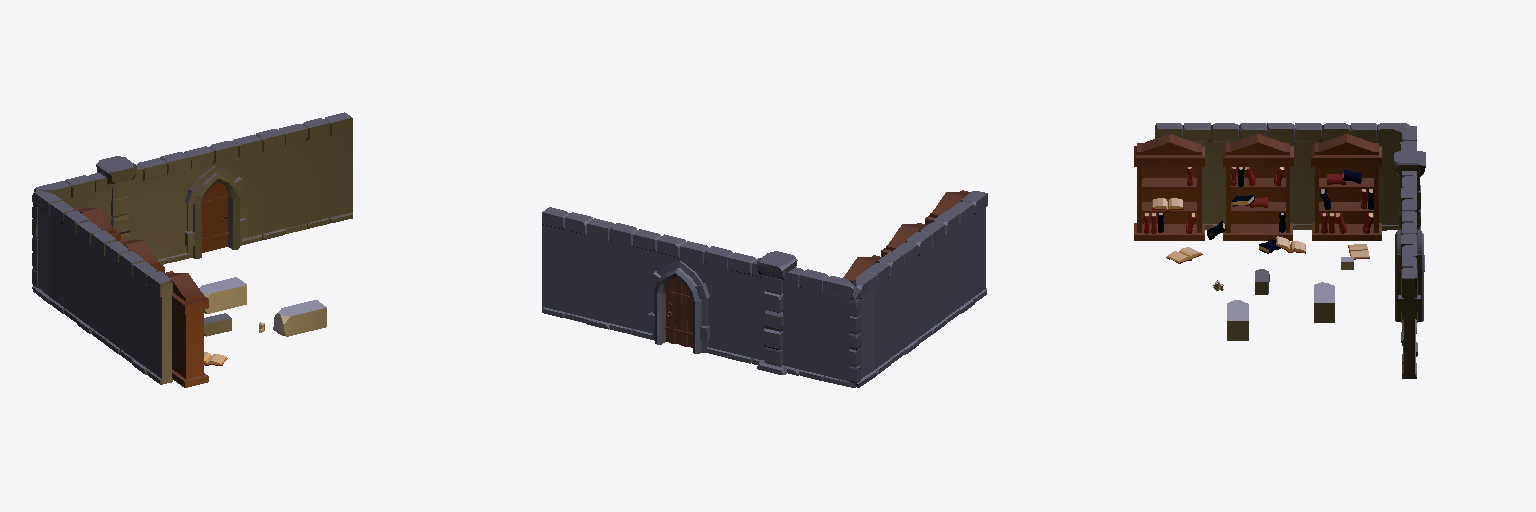
3 renders of one model, left to right at view 1: azimuth 30°, elevation 25°; view 2: azimuth 150°, elevation 25°; view 3: azimuth 270°, elevation 25°, orthographic.
Parts seen in each view (by area): view 1: Wall5.001_Untitled.023; view 2: Wall5.001_Untitled.023; view 3: Wall5.001_Untitled.023.
Boxes of the visible parts, <box> form: Wall5.001_Untitled.023: <box>32,112,352,387</box>; Wall5.001_Untitled.023: <box>542,190,987,387</box>; Wall5.001_Untitled.023: <box>1134,123,1425,378</box>.
Size of the model in its own units: 8.26 by 3.13 by 6.58.
Materials: 1 (1 with a texture image).